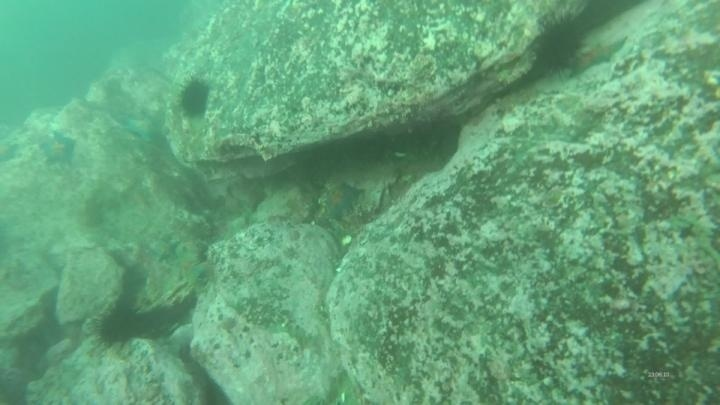echinus: (529, 12, 590, 76), (94, 302, 147, 348), (176, 76, 214, 121)
starfish: (568, 33, 630, 77), (319, 178, 366, 221), (37, 129, 80, 169), (169, 245, 208, 288), (119, 109, 163, 144), (146, 233, 183, 265), (189, 256, 219, 284), (0, 139, 21, 165)
